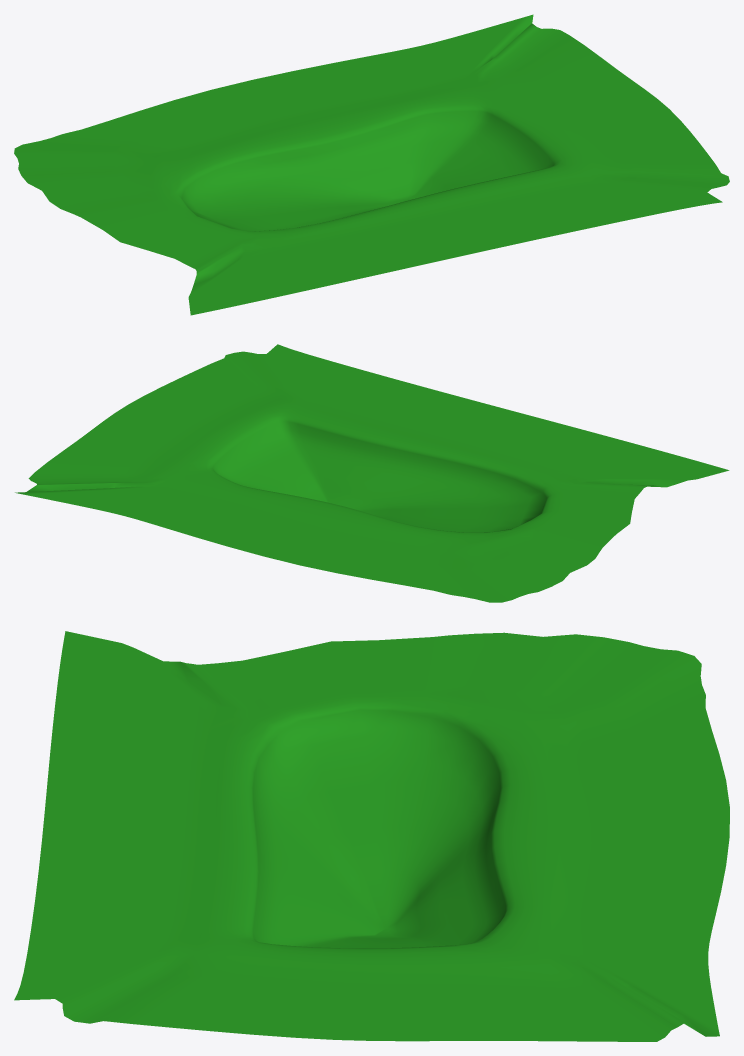
File: Landscape 1.fbx
3 views of the same model, one above another, from view 1: azimuth 30°, elevation 25°; view 2: azimuth 150°, elevation 25°; view 3: azimuth 270°, elevation 25° (orthographic). The views are drawn at different scales.
Visible parts, largest first — view 1: Cube; view 2: Cube; view 3: Cube.
Part boxes in pixels (x1,y1,x2,y2): Cube: [14, 14, 729, 315]; Cube: [15, 344, 729, 602]; Cube: [14, 631, 729, 1041].
Size of the model in its own units: 4.63 by 0.3565 by 3.41.
